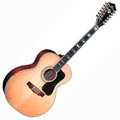guitar: (3, 2, 117, 117)
